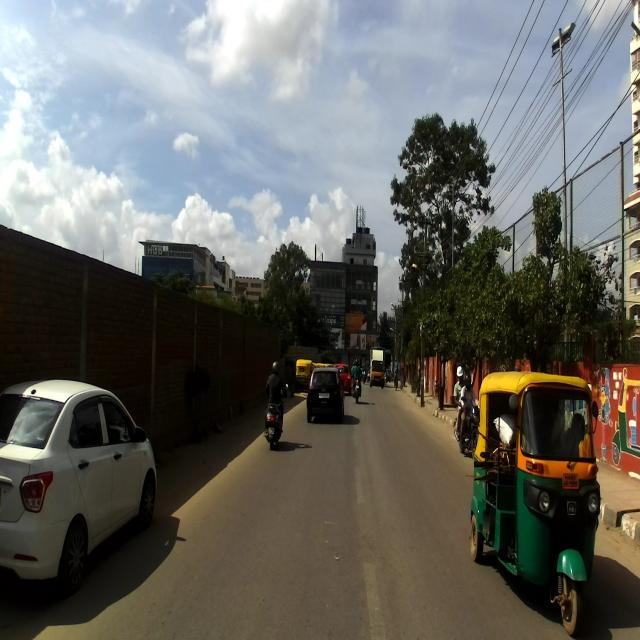Car_Ford: (306, 366, 346, 423)
Car_Maruti-Suzuki: (0, 378, 157, 597)
autorickshaw: (469, 371, 604, 636)
motorcycle_bajaj: (452, 398, 480, 458)
scooter: (264, 377, 290, 451)
